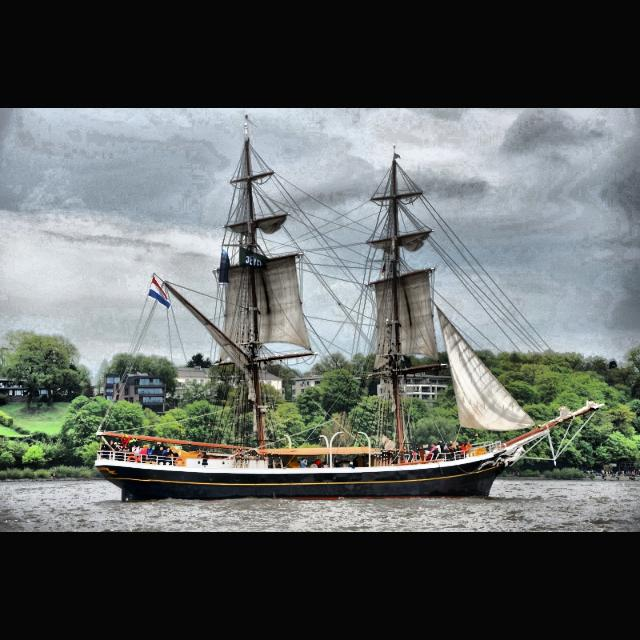sailing_vessel: (94, 140, 606, 504)
